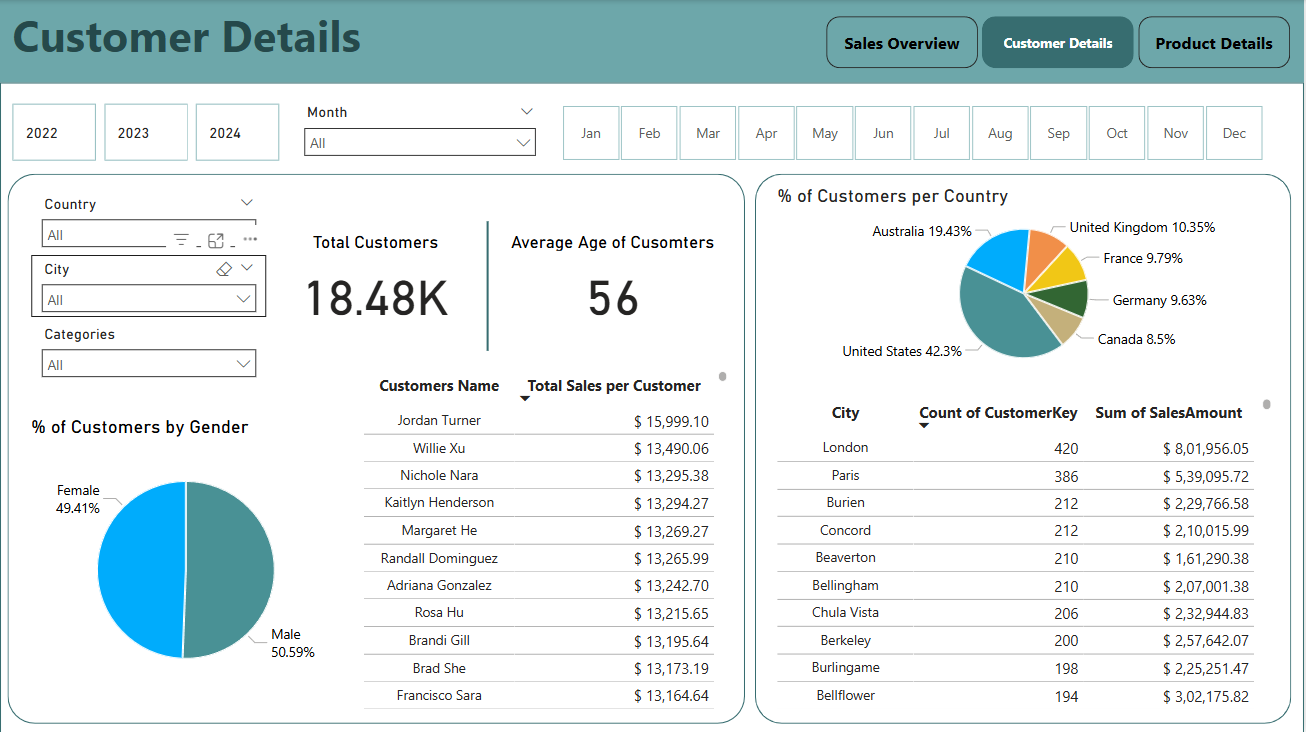

The page's visual inventory and layout, read from the dashboard file:
{"tool":"powerbi","page":{"name":"Customer Details","canvas":[1280,720],"ordinal":1},"visuals":[{"type":"shape","box":[0,81.2,1280,638.8],"z":0},{"type":"shape","box":[741.1,170.6,526.4,539.9],"z":1000},{"type":"shape","box":[7.4,170.6,723.9,539.9],"z":2000},{"type":"textbox","box":[7.4,0,368.1,81],"z":3000},{"type":"card","title":"Total Customers","fields":{"Values":["CountNonNull(Customer.CustomerKey)"]},"box":[280,227.5,177.5,100],"z":4000},{"type":"slicer","fields":{"Values":["Product.Category"]},"box":[30.7,314.1,230.7,61.4],"z":5000},{"type":"advancedSlicerVisual","fields":{"Values":["Date.Year"]},"box":[7.4,96.9,272.4,66.3],"z":6000},{"type":"card","title":"Average Age of Cusomters","fields":{"Values":["Avg(Customer.Age)"]},"box":[493.8,227.5,216.2,100],"z":7000},{"type":"slicer","fields":{"Values":["Date.MonthShort"]},"box":[526.7,96.7,736.7,66.7],"z":8000},{"type":"pieChart","title":"% of Customers per Country","fields":{"Category":["Customer.Country"],"Y":["CountNonNull(Customer.CustomerKey)"]},"box":[758.8,181.2,493.8,192.5],"z":9000},{"type":"pivotTable","title":"Total Revenue per Year by Country","fields":{"Rows":["Customer.City"],"Values":["Count(Customer.CustomerKey)","Sum(Sales.SalesAmount)"]},"box":[758.3,386.5,494.5,314.1],"z":10000},{"type":"pieChart","title":"% of Customers by Gender","fields":{"Y":["CountNonNull(Customer.CustomerKey)"],"Category":["Customer.Gender"]},"box":[26.2,408.8,313.8,281.2],"z":11000},{"type":"pivotTable","fields":{"Values":["Sum(Sales.SalesAmount)"],"Rows":["Customer.FullName"]},"box":[352.1,359.5,366.9,341.1],"z":12000},{"type":"slicer","fields":{"Values":["Customer.Country"]},"box":[30.7,186.5,230.7,61.4],"z":13000},{"type":"shape","box":[472.5,217.5,12.5,127.5],"z":14000},{"type":"pageNavigator","box":[811,16,456.4,51.5],"z":14002},{"type":"slicer","fields":{"Values":["Date.Month"]},"box":[288.3,96.9,247.9,66.3],"z":14003},{"type":"slicer","fields":{"Values":["Customer.City"]},"box":[30.7,250.3,230.7,61.4],"z":14004}]}

Visuals, with their boxes in screenshot pixels (x1, y1, x2, y2), scaled from the page's 1280x720 canvas onto the 1306x732 screenshot:
shape: <region>0, 83, 1305, 731</region>
shape: <region>756, 173, 1293, 722</region>
shape: <region>8, 173, 746, 722</region>
textbox: <region>8, 0, 383, 82</region>
"Total Customers" card: <region>286, 231, 467, 333</region>
slicer - Product.Category: <region>31, 319, 267, 382</region>
advancedSlicerVisual - Date.Year: <region>8, 99, 285, 166</region>
"Average Age of Cusomters" card: <region>504, 231, 724, 333</region>
slicer - Date.MonthShort: <region>537, 98, 1289, 166</region>
"% of Customers per Country" pieChart: <region>774, 184, 1278, 380</region>
"Total Revenue per Year by Country" pivotTable: <region>774, 393, 1278, 712</region>
"% of Customers by Gender" pieChart: <region>27, 416, 347, 702</region>
pivotTable - Sum(Sales.SalesAmount) x Customer.FullName: <region>359, 365, 734, 712</region>
slicer - Customer.Country: <region>31, 190, 267, 252</region>
shape: <region>482, 221, 495, 351</region>
pageNavigator: <region>827, 16, 1293, 69</region>
slicer - Date.Month: <region>294, 99, 547, 166</region>
slicer - Customer.City: <region>31, 254, 267, 317</region>
